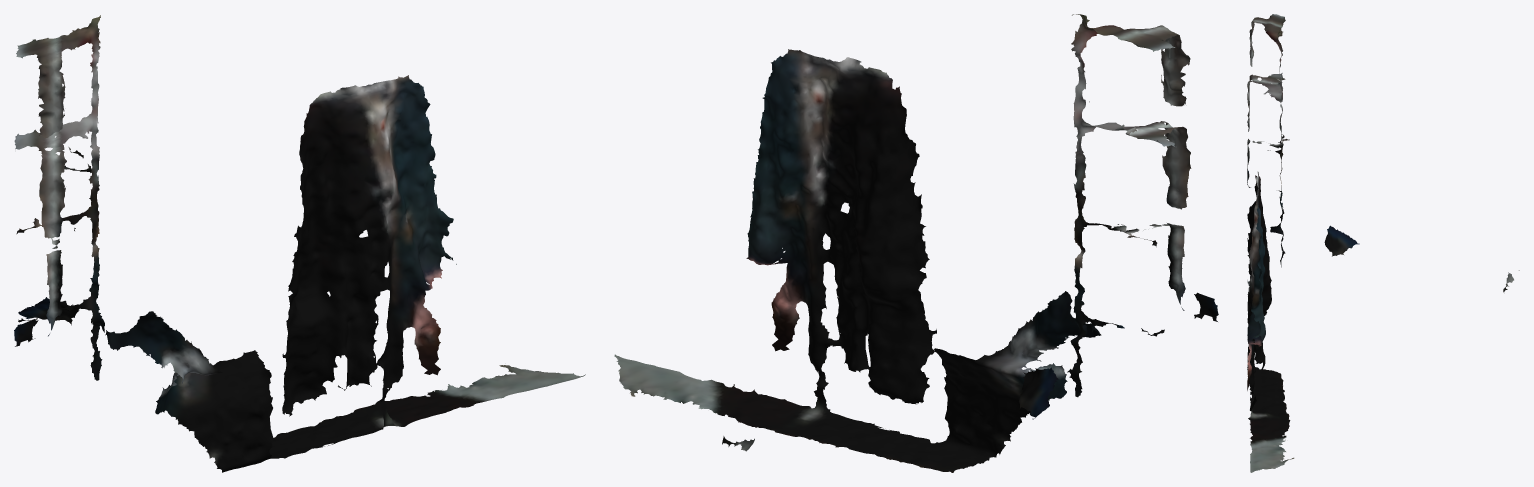
Rendered from color_model_f005_20251226_161542.obj.
The picture shows the model from 3 angles, left to right: view 1: azimuth 30°, elevation 25°; view 2: azimuth 150°, elevation 25°; view 3: azimuth 270°, elevation 25°; orthographic projection. The views are drawn at different scales.
Size of the model in its own units: 2.12 by 1.66 by 1.35.
